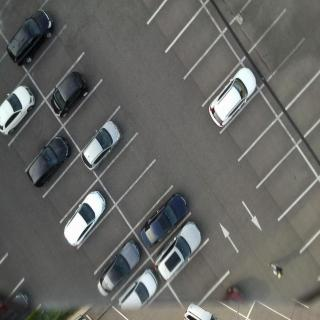car: (207, 65, 258, 129), (152, 220, 202, 282), (140, 190, 190, 250), (97, 238, 144, 298), (24, 134, 71, 191), (62, 188, 106, 248), (8, 13, 53, 68), (80, 119, 122, 173), (49, 69, 89, 119), (1, 84, 36, 137), (113, 270, 157, 310), (182, 303, 219, 319)
parking-space: (238, 9, 306, 95), (258, 35, 320, 127), (167, 238, 232, 317), (183, 31, 244, 115), (255, 145, 319, 224), (216, 90, 280, 168), (114, 161, 178, 239), (96, 130, 159, 208), (58, 78, 124, 152), (236, 115, 298, 193), (44, 152, 106, 230), (24, 24, 85, 102), (164, 7, 226, 83), (217, 1, 287, 67), (5, 99, 67, 169), (77, 207, 137, 279), (40, 160, 102, 223), (275, 68, 320, 154), (145, 1, 209, 57), (276, 178, 320, 259), (4, 5, 53, 65), (247, 300, 294, 320)
